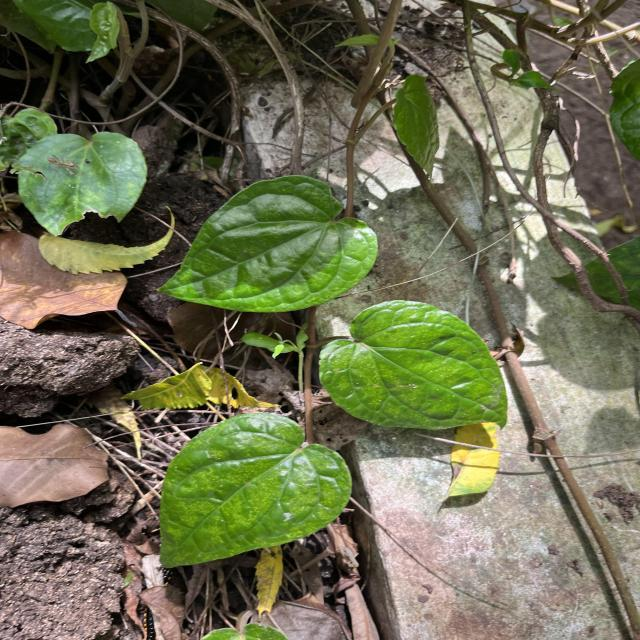Piper betle: (154, 172, 380, 314), (316, 297, 511, 433)
